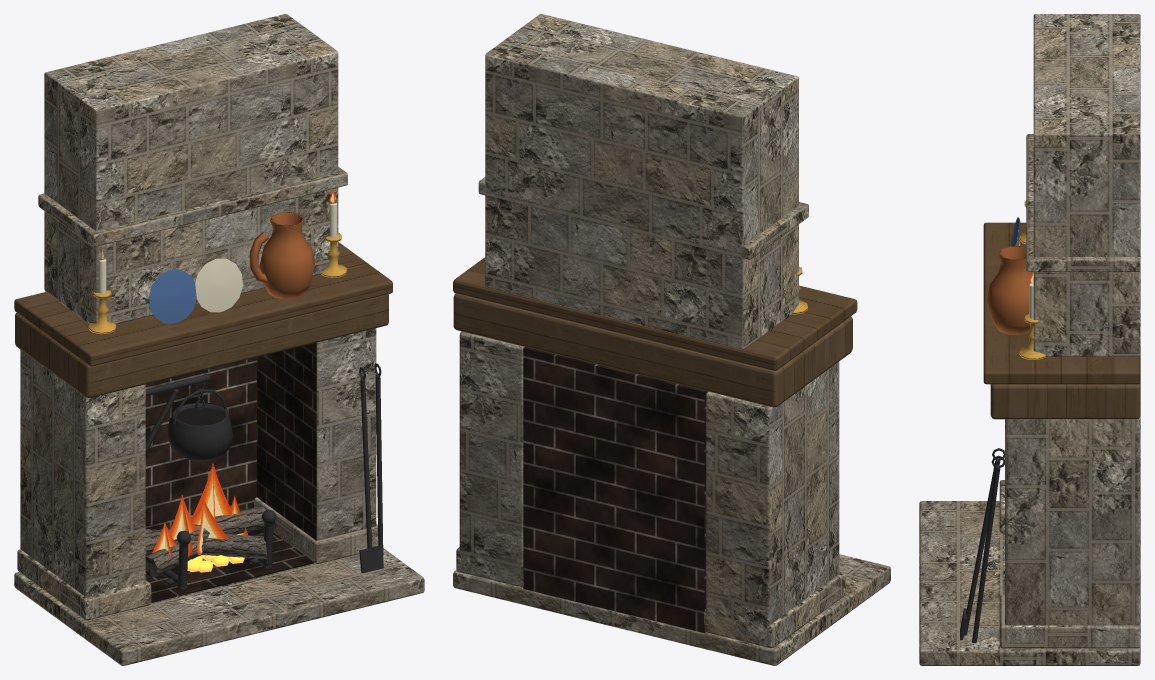
File: prop_fireplace.glb
The picture shows the model from 3 angles, left to right: view 1: azimuth 30°, elevation 25°; view 2: azimuth 150°, elevation 25°; view 3: azimuth 270°, elevation 25°; orthographic projection. The views are drawn at different scales.
Parts seen in each view (by area): view 1: prop; view 2: prop; view 3: prop.
Boxes of the visible parts, left/top/right/bottom form: prop: left=14, top=14, right=424, bottom=665; prop: left=453, top=14, right=890, bottom=665; prop: left=919, top=14, right=1140, bottom=665.
Size of what is drawn, in the model's own units: 1 by 1.6 by 0.62.
10 materials, 6 textured.
